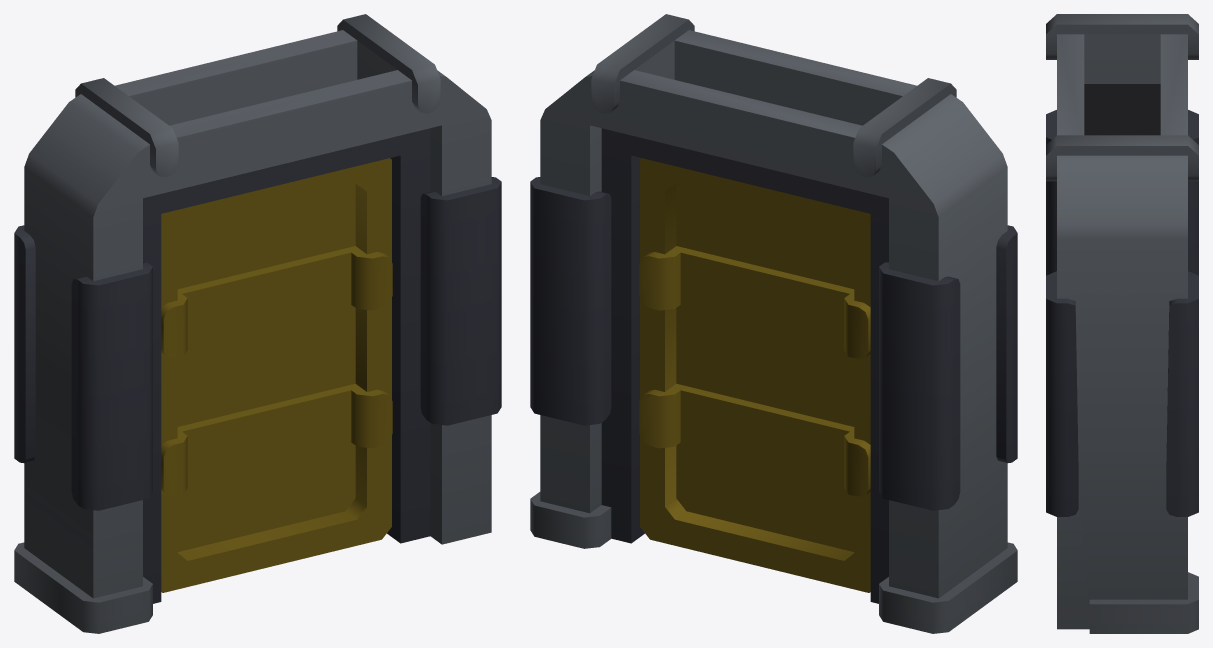
File: k_gate_door.glb
The picture shows the model from 3 angles, left to right: view 1: azimuth 30°, elevation 25°; view 2: azimuth 150°, elevation 25°; view 3: azimuth 270°, elevation 25°; orthographic projection. The views are drawn at different scales.
Visible parts, largest first — view 1: gate-door, door; view 2: gate-door, door; view 3: gate-door.
Part boxes in pixels (box(x1,y1,x2,y2)): gate-door: box(14, 14, 501, 633); door: box(161, 158, 392, 592); gate-door: box(530, 14, 1017, 633); door: box(639, 158, 870, 592); gate-door: box(1046, 14, 1198, 633).
Size of the model in its own units: 4.2 by 4.62 by 1.4.
Materials: 1 (1 with a texture image).
